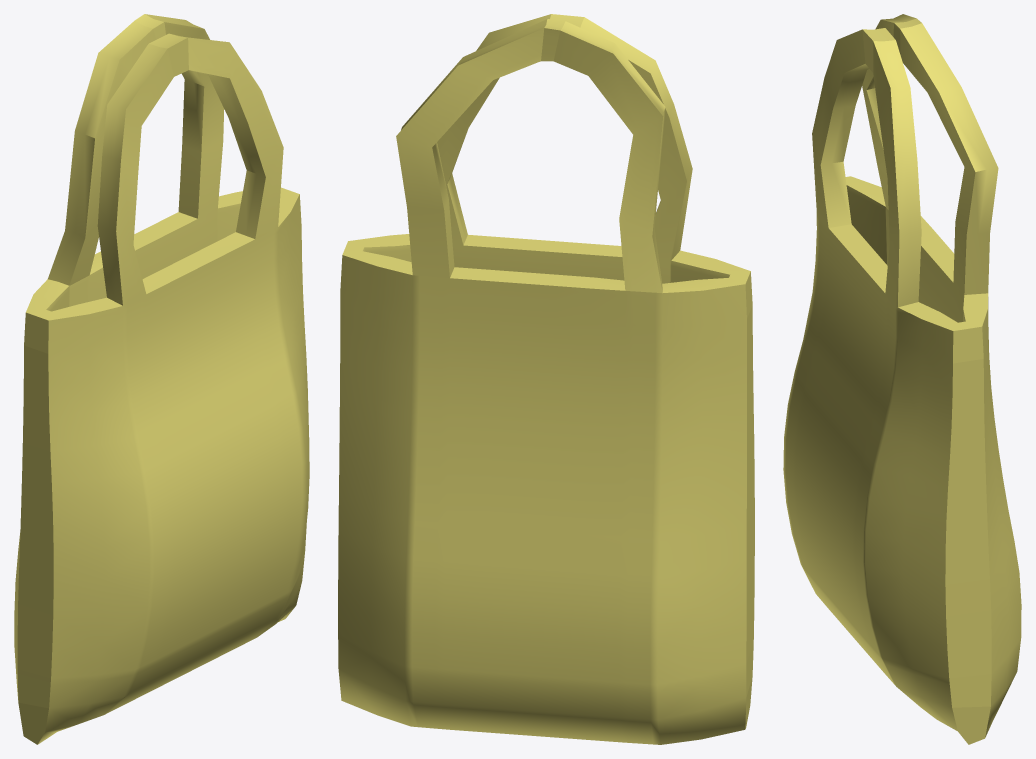
The model's file is BlankBag.fbx.
3 views of the same model, side by side, from view 1: azimuth 30°, elevation 25°; view 2: azimuth 150°, elevation 25°; view 3: azimuth 270°, elevation 25° (orthographic). The views are drawn at different scales.
Visible parts, largest first — view 1: Totebag; view 2: Totebag; view 3: Totebag.
Boxes of the visible parts, <box> form: Totebag: <box>14,14,309,744</box>; Totebag: <box>338,14,754,744</box>; Totebag: <box>783,14,1021,744</box>.
Bounding box in the file's own units: 6.19 × 11.71 × 3.91.
